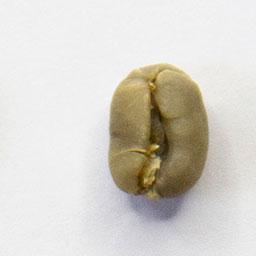peaberry: (102, 59, 213, 206)
